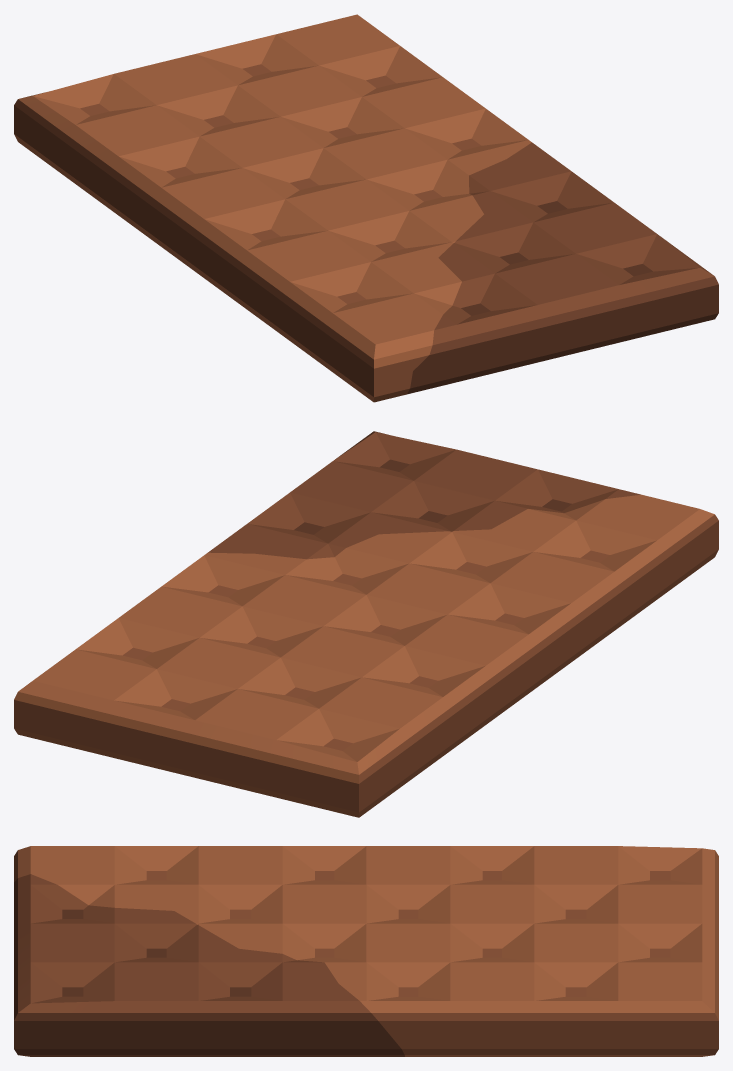
The model's file is SA_Prop_Mattress_02.glb.
3 renders of one model, top to bottom at view 1: azimuth 30°, elevation 25°; view 2: azimuth 150°, elevation 25°; view 3: azimuth 270°, elevation 25°, orthographic. The views are drawn at different scales.
Parts seen in each view (by area): view 1: SA_Prop_Mattress_02; view 2: SA_Prop_Mattress_02; view 3: SA_Prop_Mattress_02.
Boxes of the visible parts, x1,y1,x2,y2 form: SA_Prop_Mattress_02: (14,14,718,402); SA_Prop_Mattress_02: (14,431,718,817); SA_Prop_Mattress_02: (14,846,718,1056).
Size of the model in its own units: 0.861 by 0.136 by 1.56.
1 material, 1 textured.
